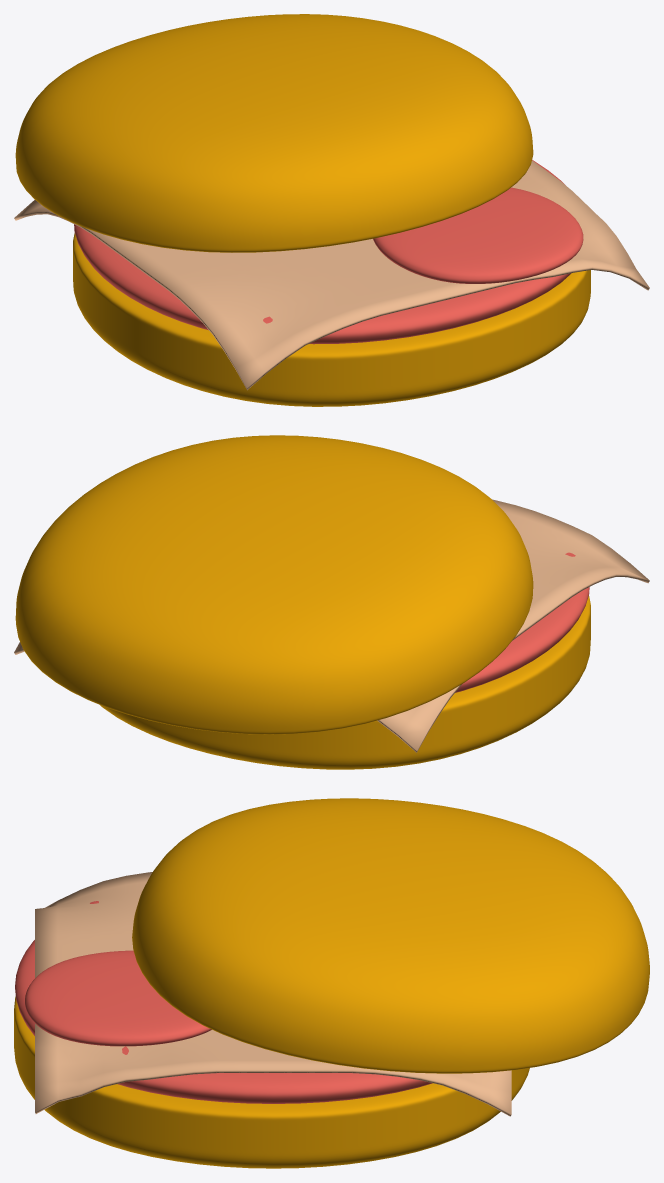
3 views of the same model, one above another, from view 1: azimuth 30°, elevation 25°; view 2: azimuth 150°, elevation 25°; view 3: azimuth 270°, elevation 25° (orthographic). The views are drawn at different scales.
Visible parts, largest first — view 1: Cube.002, Cube, Plane, Cube.003, Cube.001; view 2: Cube.002, Cube, Plane, Cube.001; view 3: Cube.002, Cube, Plane, Cube.003, Cube.001.
Boxes of the visible parts, box(x1,y1,x2,y2) form: Cube.002: box(15, 14, 533, 252); Cube: box(73, 233, 590, 406); Plane: box(14, 160, 649, 390); Cube.003: box(373, 187, 583, 283); Cube.001: box(74, 160, 571, 344); Cube.002: box(15, 435, 533, 734); Cube: box(100, 596, 590, 769); Plane: box(14, 499, 649, 752); Cube.001: box(455, 552, 589, 692); Cube.002: box(132, 798, 649, 1073); Cube: box(14, 996, 529, 1168); Plane: box(35, 872, 511, 1116); Cube.003: box(25, 950, 211, 1046); Cube.001: box(15, 901, 432, 1103).
Size of the model in its own units: 9.07 by 4.24 by 11.11.
